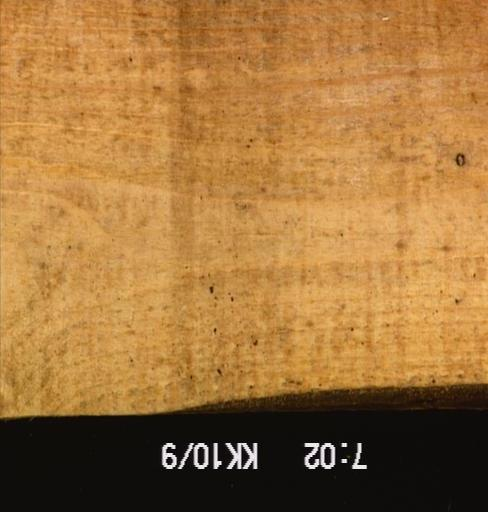dry_knot: (453, 151, 465, 169)
wave: (164, 383, 486, 412)
